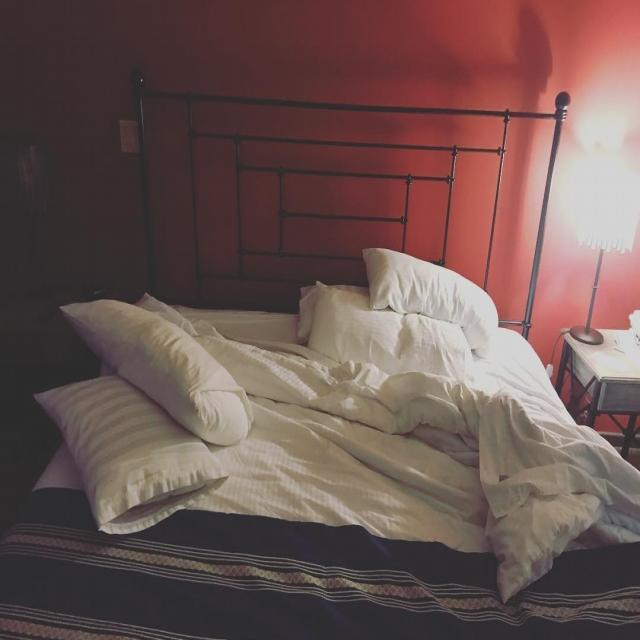bed: (9, 244, 604, 582)
